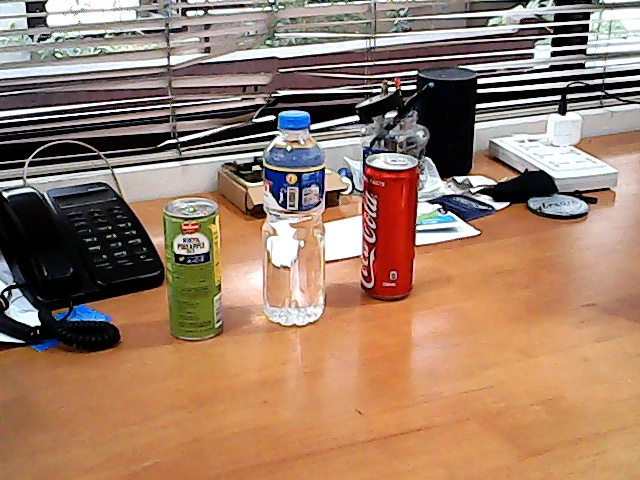Cola: (349, 141, 427, 316)
Pine Juice: (147, 191, 235, 349)
Summit Water: (249, 102, 339, 337)
